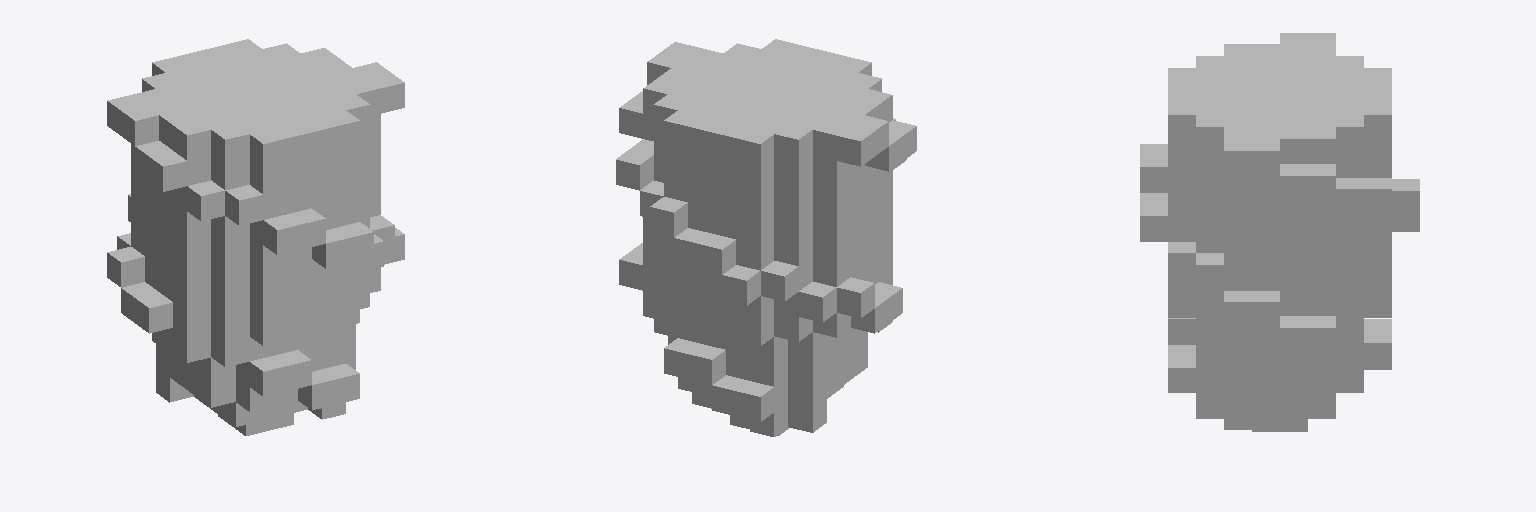
Rendered from SL_FishDrill_Drill.obj.
The picture shows the model from 3 angles: view 1: azimuth 30°, elevation 25°; view 2: azimuth 150°, elevation 25°; view 3: azimuth 270°, elevation 25°; orthographic projection.
Visible parts, largest first — view 1: SL_FishDrill_Drill; view 2: SL_FishDrill_Drill; view 3: SL_FishDrill_Drill.
Part boxes in pixels (x1,y1,x2,y2): SL_FishDrill_Drill: (107,39,404,435); SL_FishDrill_Drill: (616,39,916,436); SL_FishDrill_Drill: (1140,33,1419,431).
Size of the model in its own units: 10 by 13 by 10.